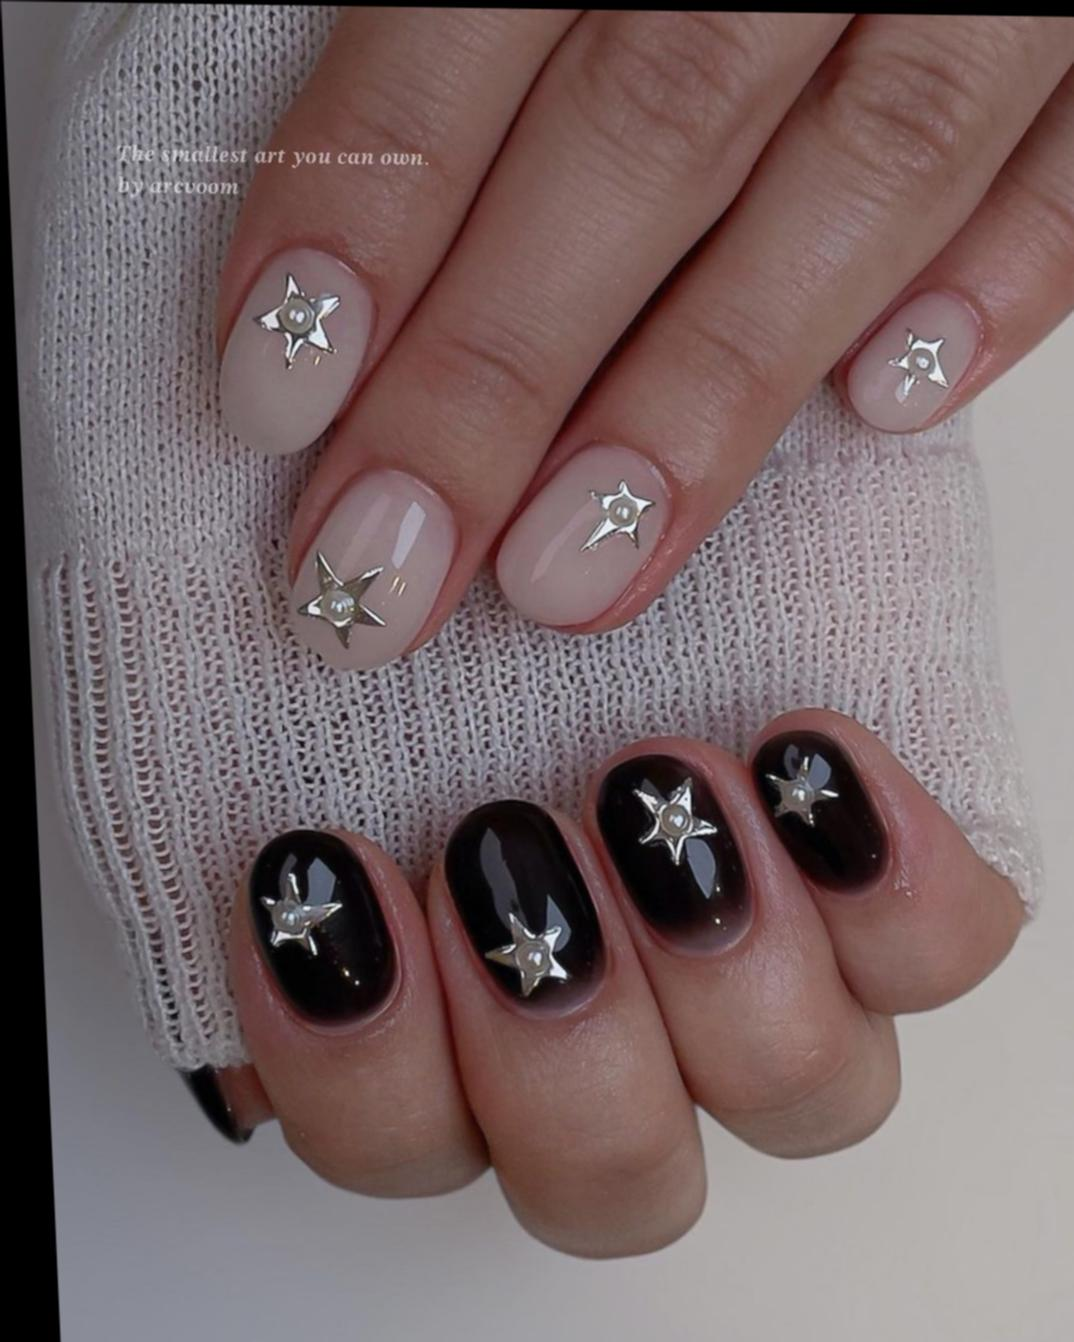nail: (578, 733, 766, 960), (435, 795, 613, 1021), (276, 461, 465, 673), (485, 435, 679, 633), (207, 240, 384, 457), (247, 830, 397, 1023), (745, 723, 894, 898), (827, 282, 989, 435)
